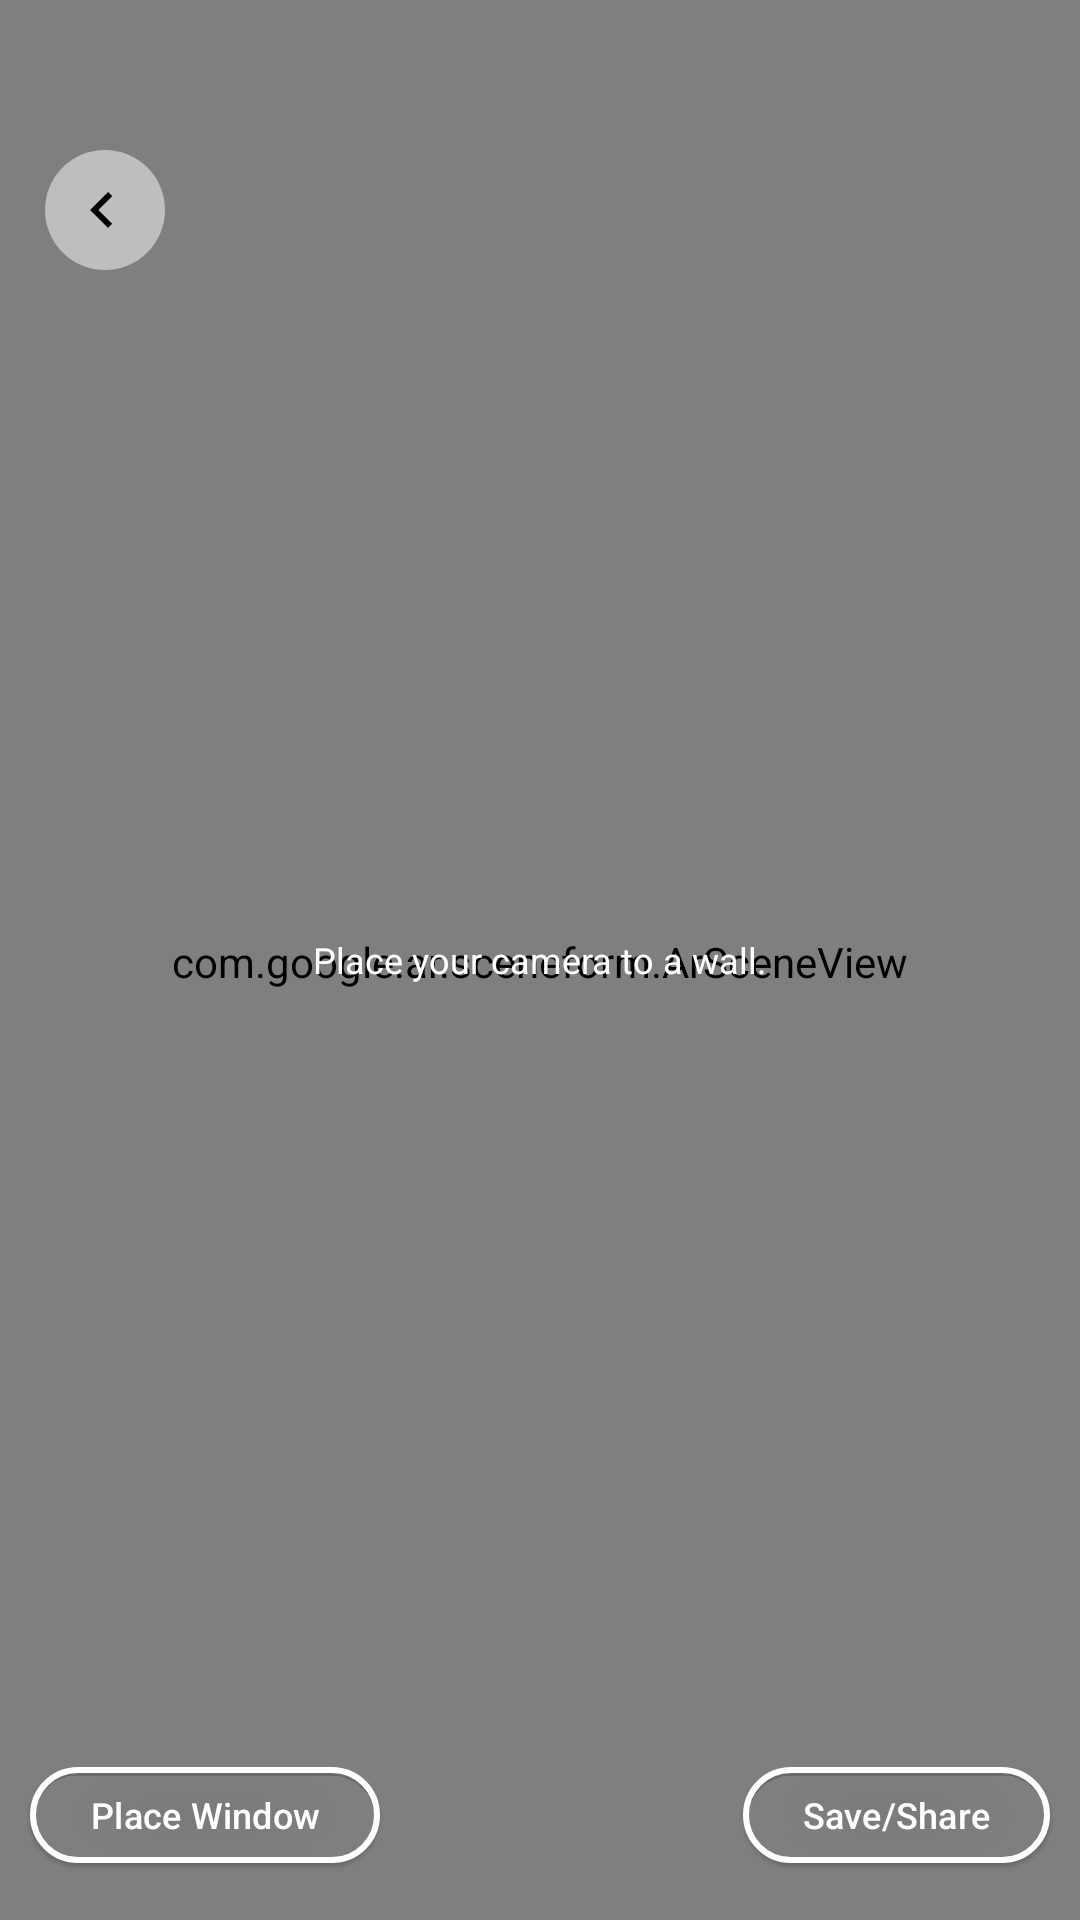

Screen size 1080x1920. Icon name, then its box in pixels as region(x1, y1, x2, y2):
back: region(45, 150, 165, 270)
